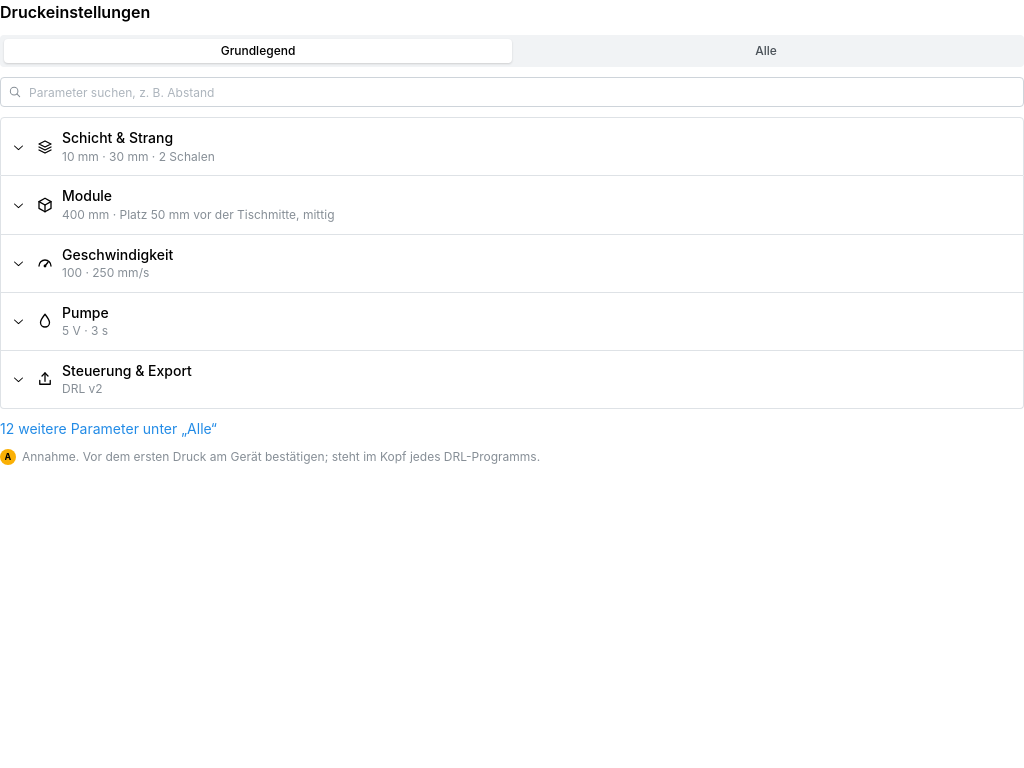
Test: ParamsPanel › zeigt die Schichten je Modul
Click the button with test id "param-group-module".
click(87, 196)  # box [1,176,1023,234]
(page scrolled)
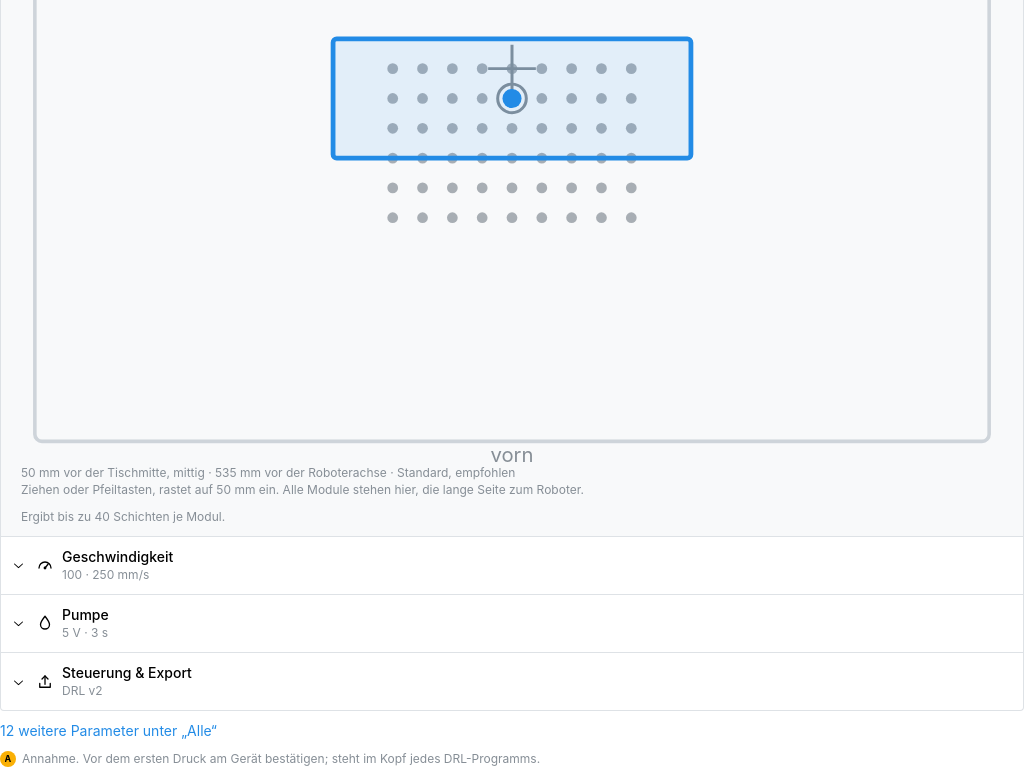
Expected: the text with test id "param-module-layers" reads "Ergibt bis zu 40 Schichten je Modul.", [21,509,225,524]
